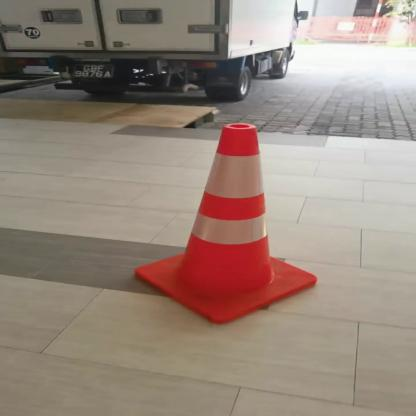cone: (110, 118, 334, 328)
